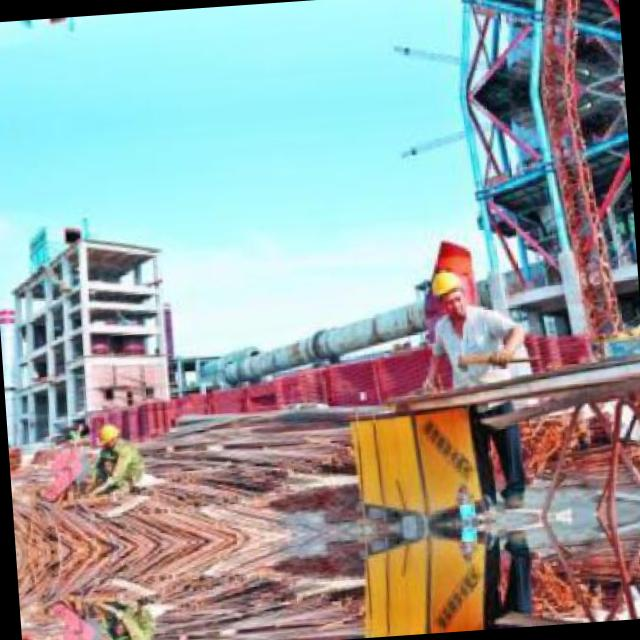helmet: (428, 262, 470, 316), (98, 419, 120, 448)
